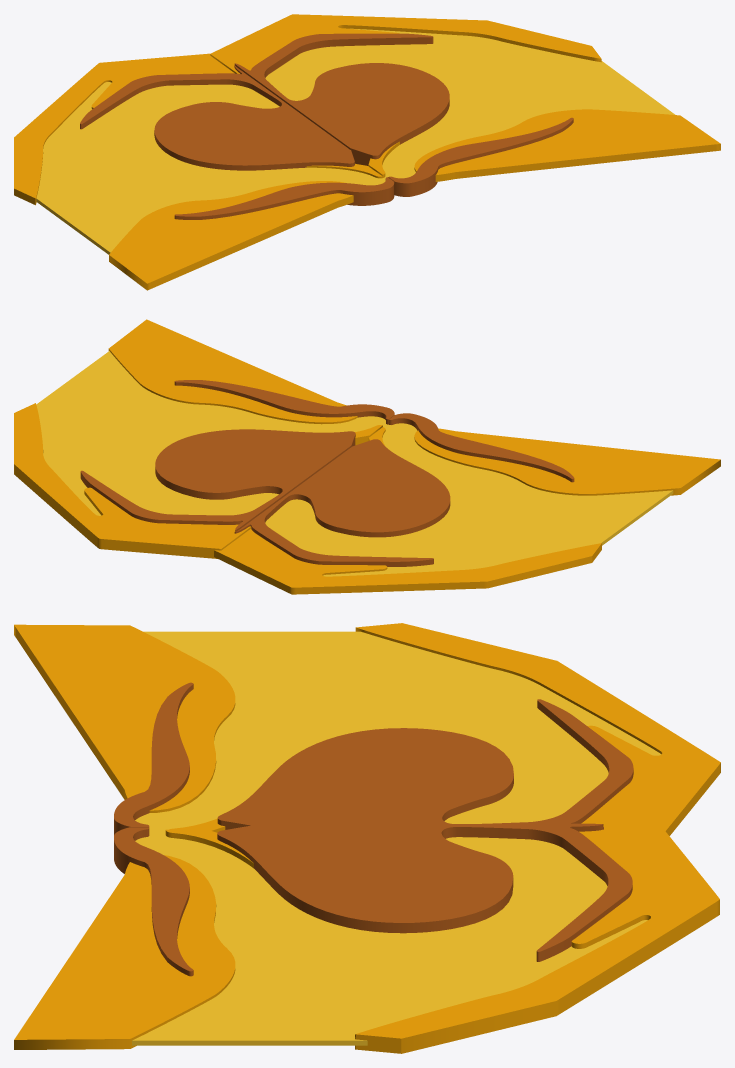
Rendered from emoji_u1faf6.glb.
3 views of the same model, one above another, from view 1: azimuth 30°, elevation 25°; view 2: azimuth 150°, elevation 25°; view 3: azimuth 270°, elevation 25° (orthographic). The views are drawn at different scales.
Parts seen in each view (by area): view 1: emoji_u1faf6; view 2: emoji_u1faf6; view 3: emoji_u1faf6.
Boxes of the visible parts, x1,y1,x2,y2 form: emoji_u1faf6: [14, 14, 720, 290]; emoji_u1faf6: [14, 319, 720, 594]; emoji_u1faf6: [14, 623, 720, 1053].
Size of the model in its own units: 0.0353 by 0.001 by 0.0252.
